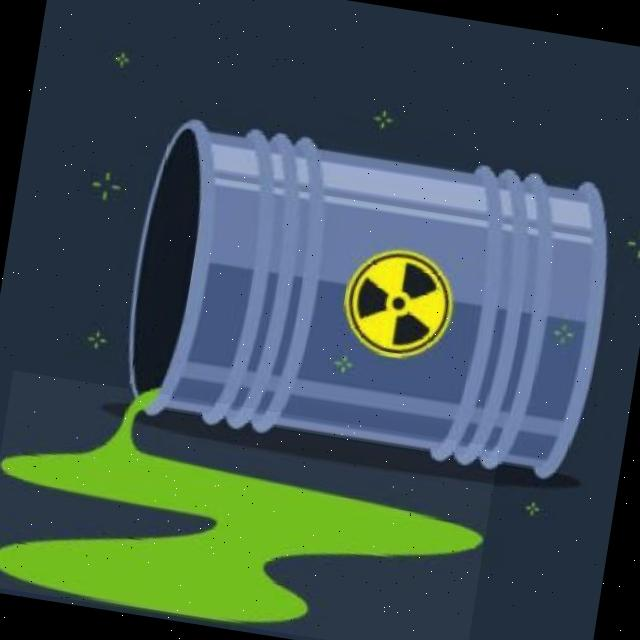spillage: (0, 393, 484, 626)
